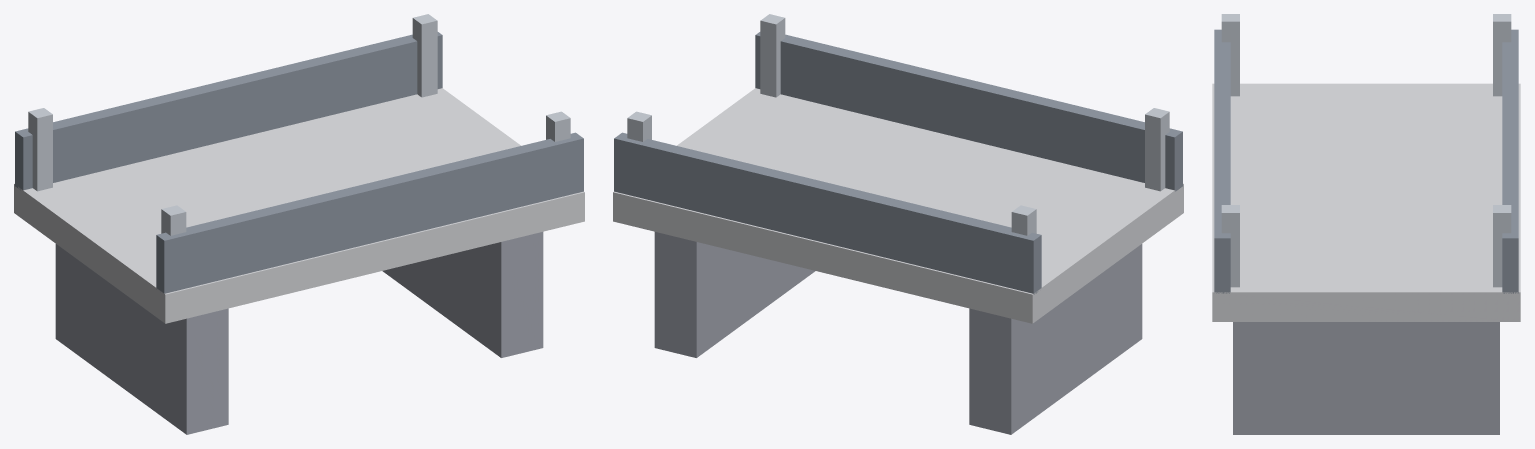
The model's file is bridge.glb.
The picture shows the model from 3 angles, left to right: view 1: azimuth 30°, elevation 25°; view 2: azimuth 150°, elevation 25°; view 3: azimuth 270°, elevation 25°; orthographic projection.
Visible parts, largest first — view 1: MetroBridge; view 2: MetroBridge; view 3: MetroBridge.
Boxes of the visible parts, x1,y1,x2,y2 form: MetroBridge: (14, 14, 584, 434); MetroBridge: (613, 14, 1183, 434); MetroBridge: (1212, 14, 1520, 434).
Bounding box in the file's own units: 2.4 × 1.25 × 1.5.
